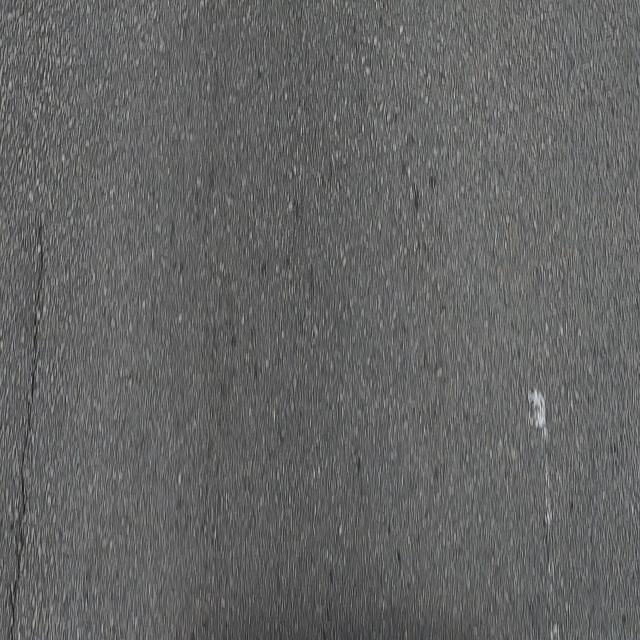Retak-Memanjang: (3, 214, 50, 640)
